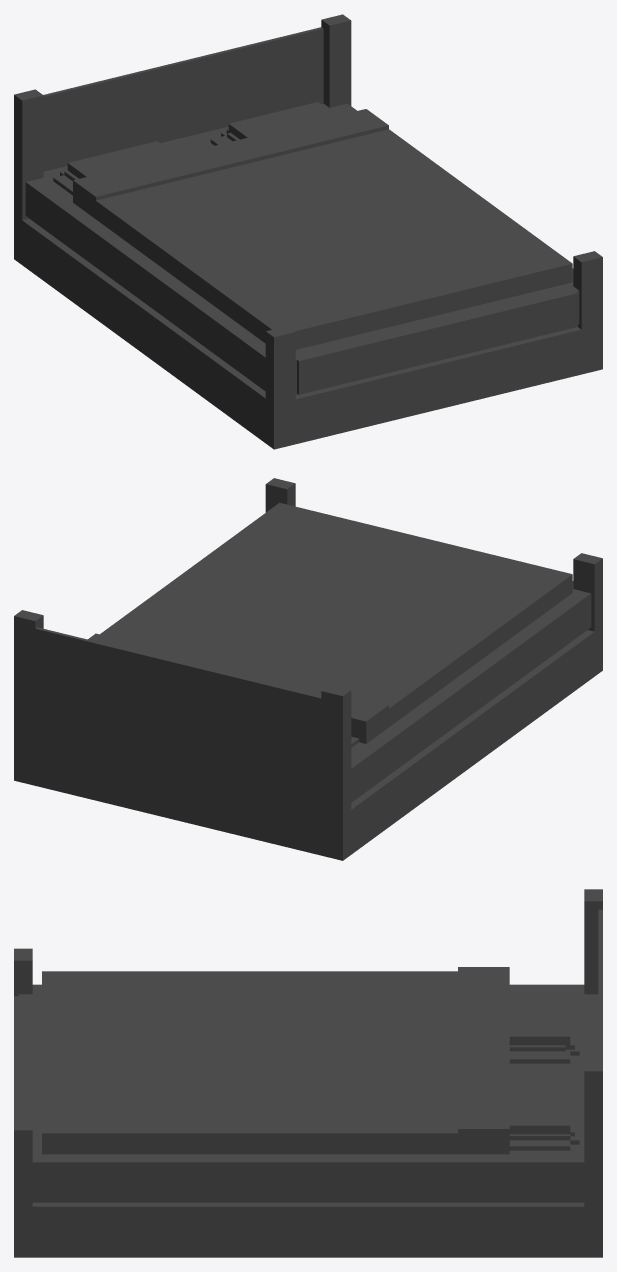
The model's file is bed.obj.
The picture shows the model from 3 angles, top to bottom: view 1: azimuth 30°, elevation 25°; view 2: azimuth 150°, elevation 25°; view 3: azimuth 270°, elevation 25°; orthographic projection. The views are drawn at different scales.
Size of the model in its own units: 92 by 44 by 126.
